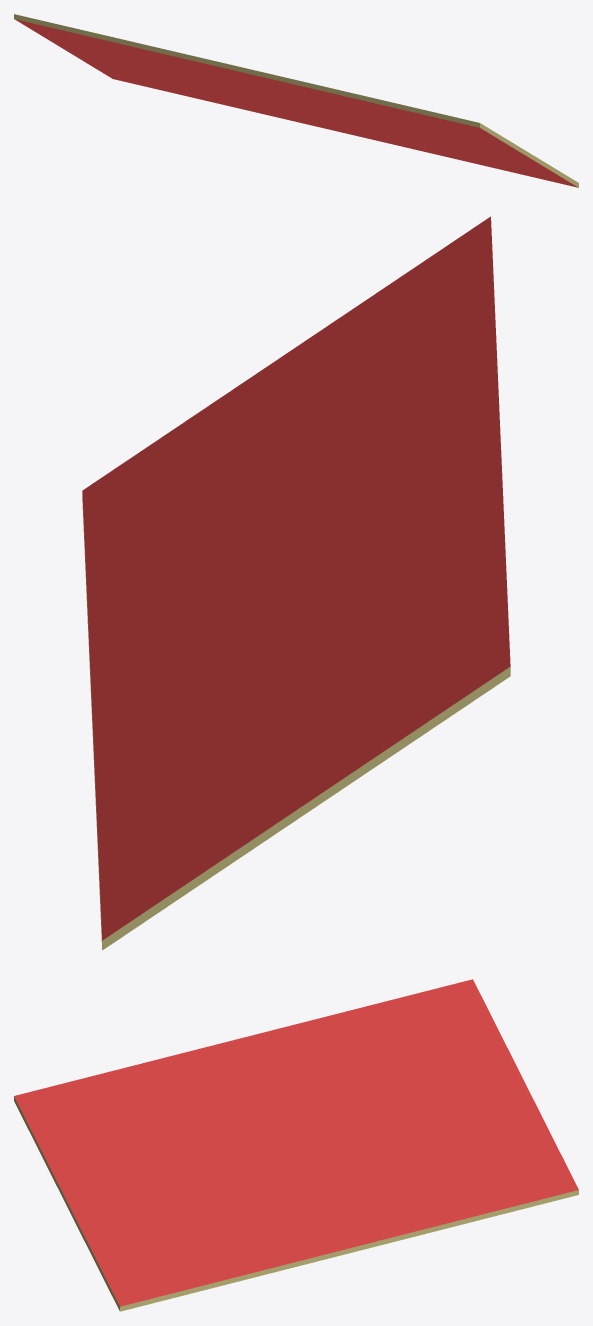
3 views of the same model, one above another, from view 1: azimuth 30°, elevation 25°; view 2: azimuth 150°, elevation 25°; view 3: azimuth 270°, elevation 25° (orthographic). The views are drawn at different scales.
Bounding box in the file's own units: 8.23 × 10.28 × 2.84.
